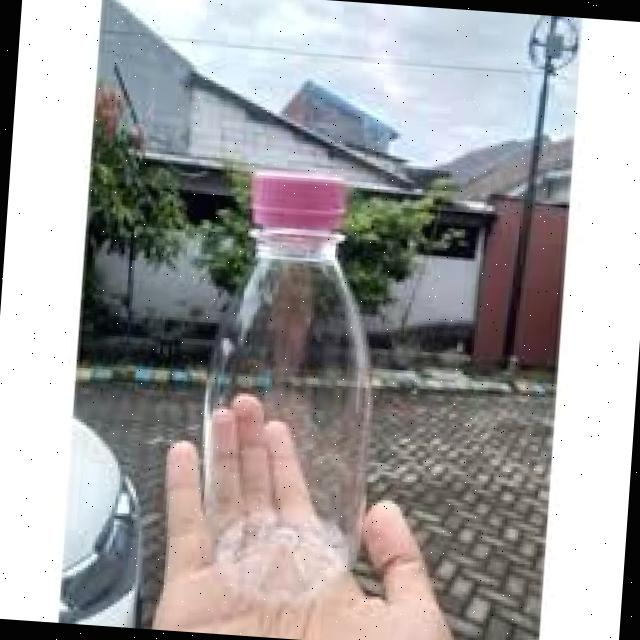bottle: (166, 170, 392, 613)
cap: (244, 166, 354, 233)
